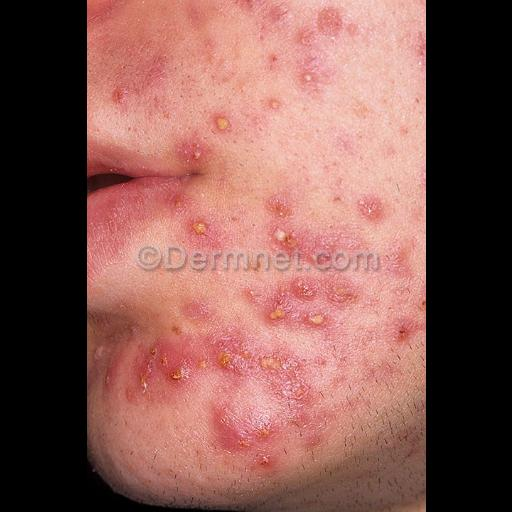Skin_Lesion: (291, 8, 337, 102), (256, 350, 314, 416), (108, 75, 172, 111), (289, 275, 359, 305), (160, 330, 190, 394), (172, 204, 210, 252), (212, 398, 244, 452), (216, 328, 246, 378), (399, 407, 423, 463), (176, 132, 206, 172), (270, 220, 298, 258), (302, 306, 340, 334), (358, 186, 382, 228), (184, 295, 212, 329), (394, 308, 414, 348), (266, 192, 292, 222), (268, 304, 294, 334), (208, 108, 232, 140), (238, 273, 258, 311), (98, 349, 114, 393), (413, 32, 425, 70), (266, 94, 282, 120), (232, 0, 258, 16), (266, 50, 280, 74), (257, 452, 273, 472), (418, 160, 426, 194), (126, 442, 134, 462), (400, 120, 408, 138)
